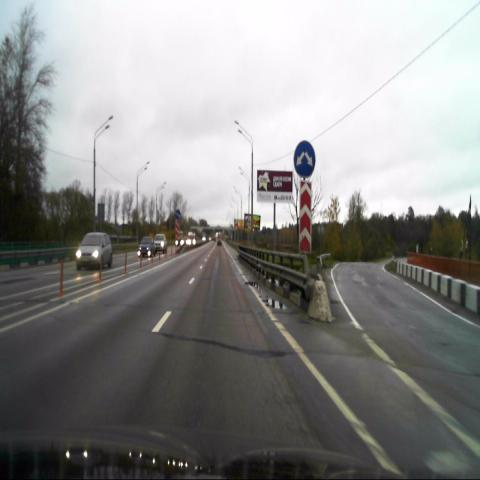4_2_3: (294, 139, 316, 179)
